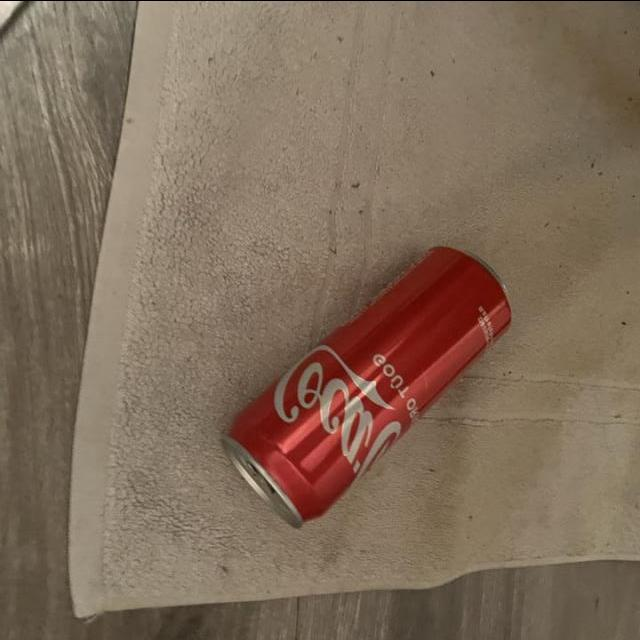can: (204, 224, 527, 532)
